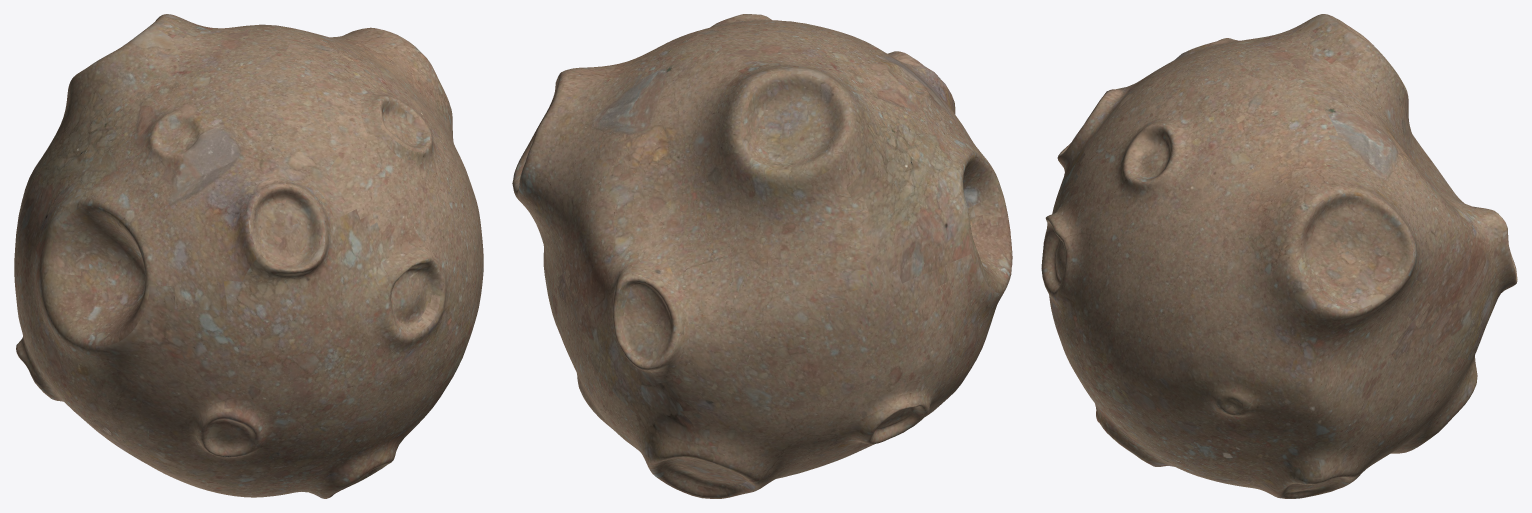
File: Meteor.fbx
3 renders of one model, left to right at view 1: azimuth 30°, elevation 25°; view 2: azimuth 150°, elevation 25°; view 3: azimuth 270°, elevation 25°, orthographic. The views are drawn at different scales.
Parts seen in each view (by area): view 1: Retopo_Sphere; view 2: Retopo_Sphere; view 3: Retopo_Sphere.
Part boxes in pixels (<box>): Retopo_Sphere: <box>14,14,483,498</box>; Retopo_Sphere: <box>512,14,1012,498</box>; Retopo_Sphere: <box>1041,14,1517,498</box>.
Bounding box in the file's own units: 78.97 × 76.26 × 78.76.
